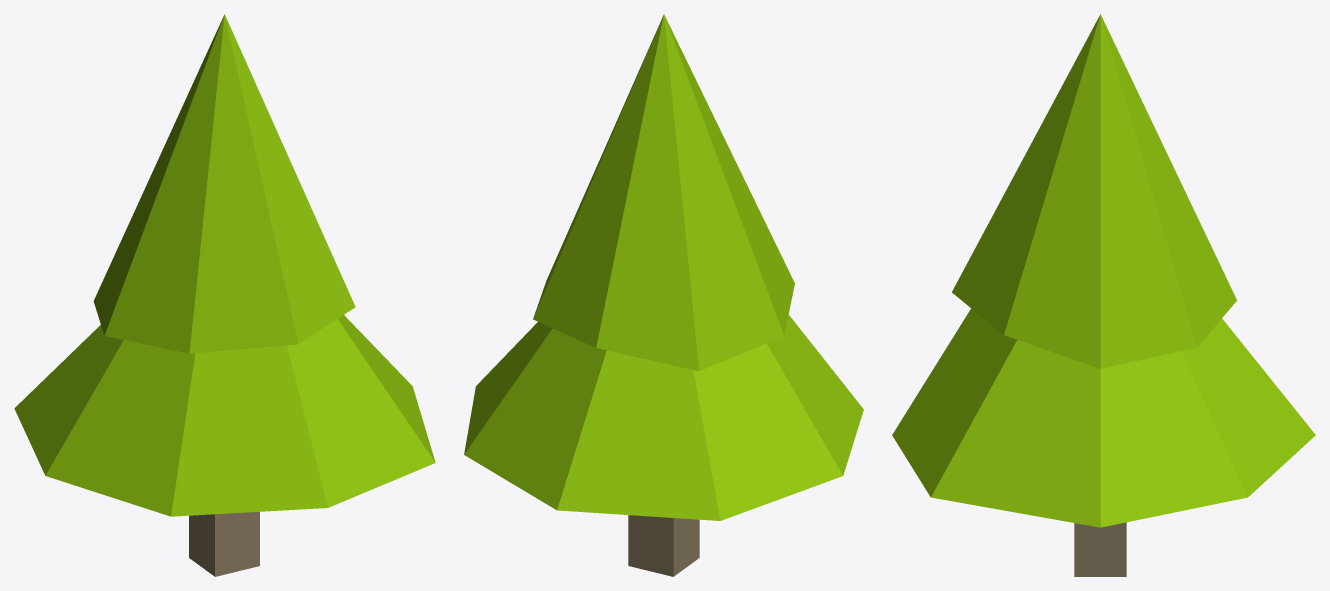
The model's file is pine_skewed_6.fbx.
3 renders of one model, left to right at view 1: azimuth 30°, elevation 25°; view 2: azimuth 150°, elevation 25°; view 3: azimuth 270°, elevation 25°, orthographic.
Visible parts, largest first — view 1: pine_skewed_6; view 2: pine_skewed_6; view 3: pine_skewed_6.
Part boxes in pixels (box(x1,y1,x2,y2)): pine_skewed_6: box(14, 14, 435, 576); pine_skewed_6: box(464, 14, 863, 576); pine_skewed_6: box(892, 14, 1315, 576).
Bounding box in the file's own units: 98.61 × 141 × 97.82.
